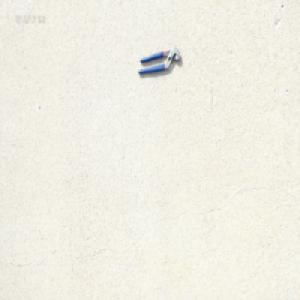Pliers: (137, 45, 181, 75)
